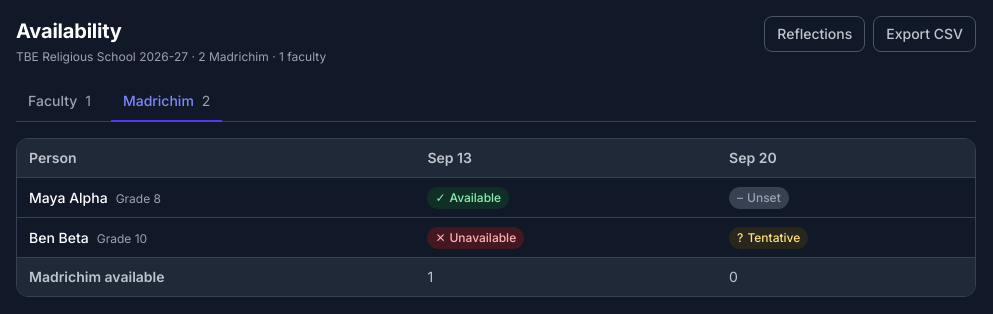
it: AvailabilityMatrix › shows one role at a time, with a summary for that role
This screenshot has width=993, height=314.
Check: the table with test id "availability-matrix-block-madrich" shows "Maya Alpha", box top-left (29, 188), bottom-right (108, 206)
Check: the table with test id "availability-matrix-block-madrich" shows "Ben Beta", box top-left (29, 228), bottom-right (89, 246)
Click the tab with test id "availability-matrix-tab-faculty".
click(59, 102)  # box top-left (16, 82), bottom-right (103, 122)
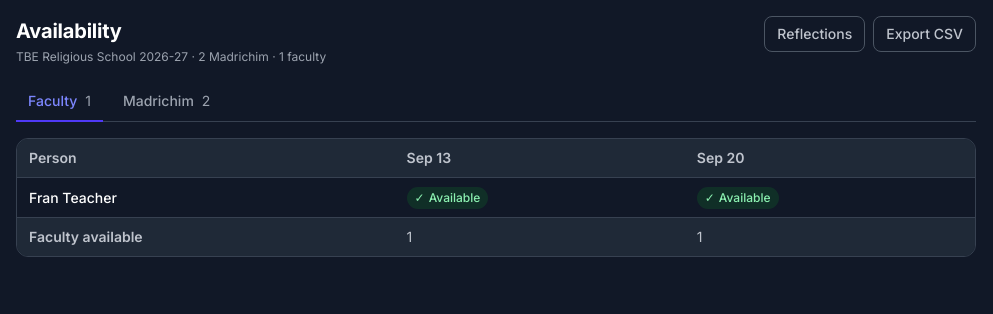
Check: the table with test id "availability-matrix-block-faculty" shows "Fran Teacher", box top-left (29, 188), bottom-right (117, 206)
Check: the table with test id "availability-matrix-block-faculty" no longer shows "Maya Alpha", box top-left (17, 178), bottom-right (975, 218)
Check: the row with test id "availability-matrix-summary" shows "Faculty available", box top-left (29, 228), bottom-right (143, 245)
